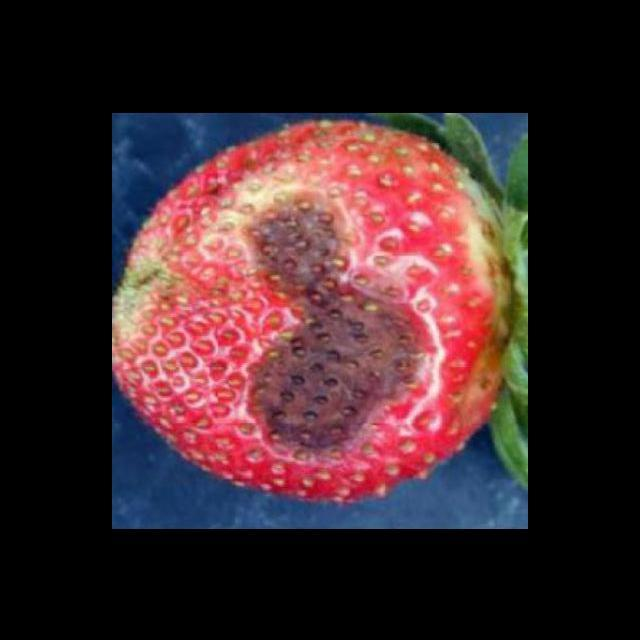Anthracnose Fruit Rot: (243, 181, 432, 459)
